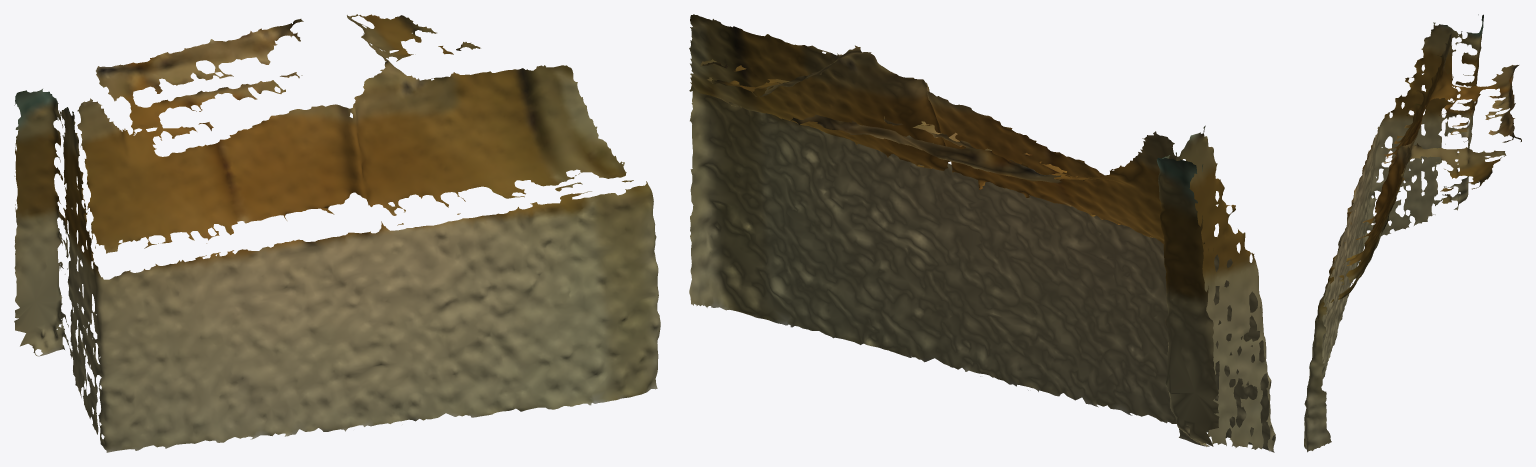
The model's file is color_model_f009_20260205_111615.obj.
3 renders of one model, left to right at view 1: azimuth 30°, elevation 25°; view 2: azimuth 150°, elevation 25°; view 3: azimuth 270°, elevation 25°, orthographic. The views are drawn at different scales.
Size of the model in its own units: 1.84 by 1.09 by 0.861.
